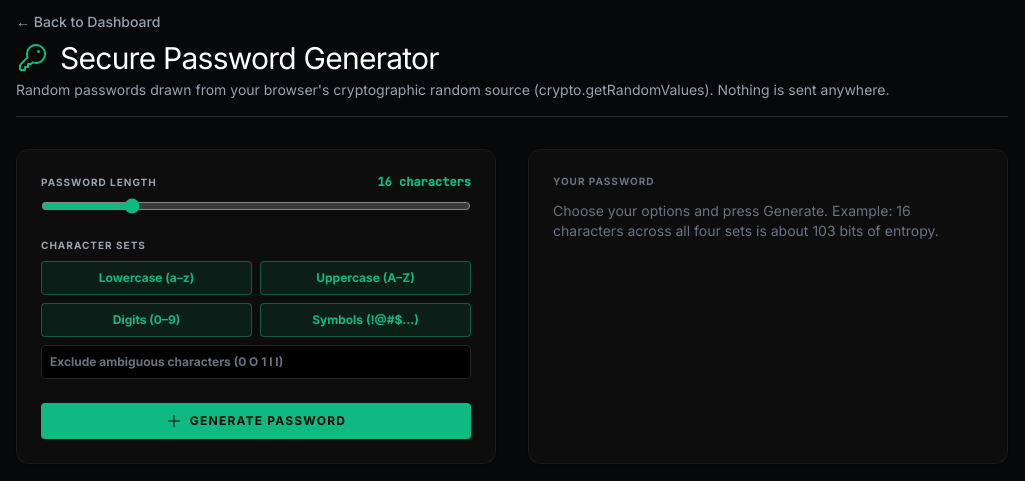
Test: password-gen › renders and generates a 16-char password with all sets
The image size is (1025, 481).
Click the button "Generate Password".
click(256, 421)  # box top-left (41, 403), bottom-right (471, 439)
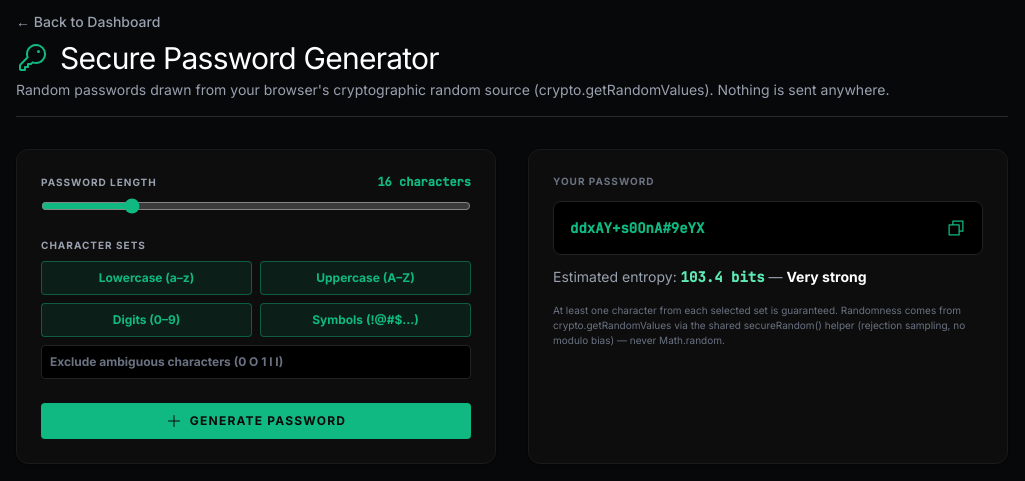
Result: the text with test id "pw-entropy" reads "103.4 bits" at top-left (681, 268), bottom-right (765, 286)
